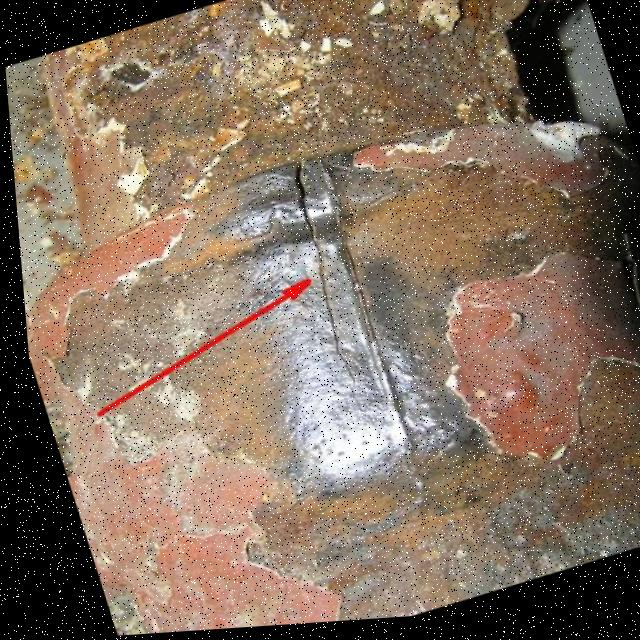crack: (270, 156, 372, 398)
